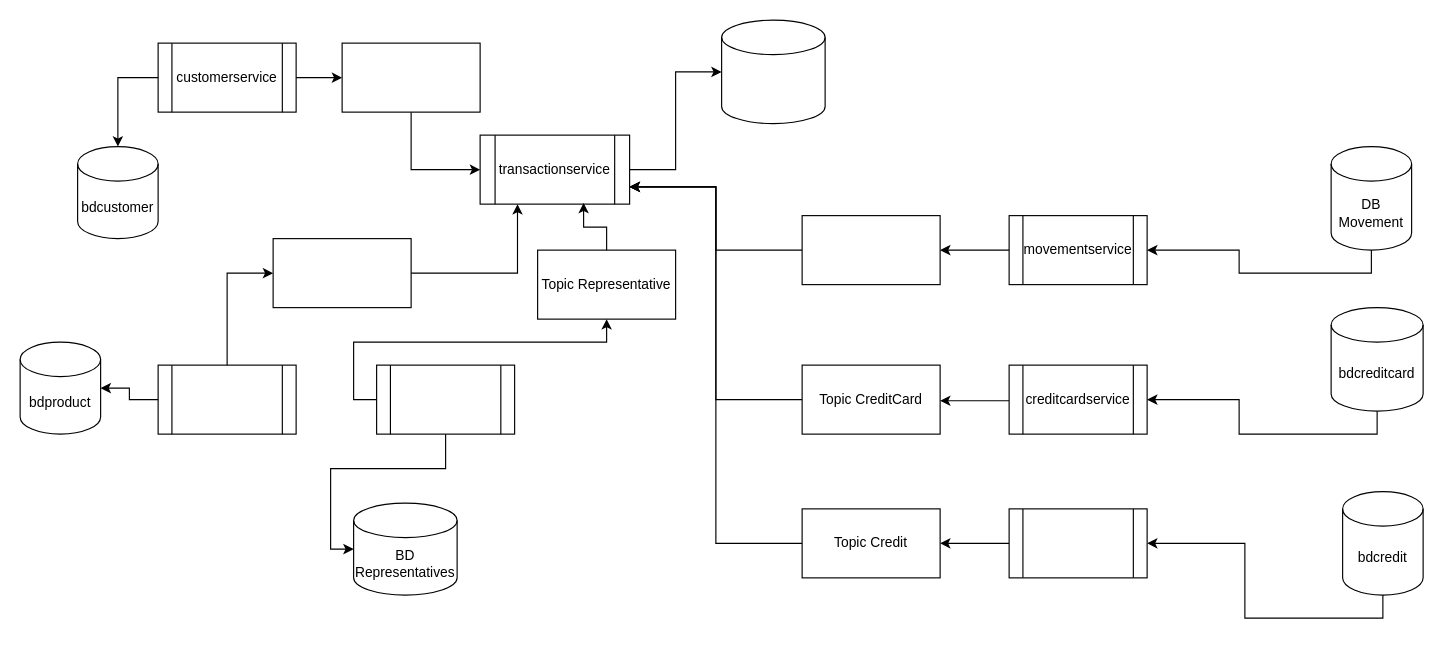
The diagram is 1443 pixels wide and 647 high, and some of its shapes have lost their labels. The centre of each missing label's shape, as x and y in pixels:
bdtransaction: the point at 772,71
creditservice: the point at 1077,543
productservice: the point at 226,399
Representatives: the point at 445,399
Topic Customer: the point at 410,77
Topic Movement: the point at 870,249
Topic Product: the point at 341,272
